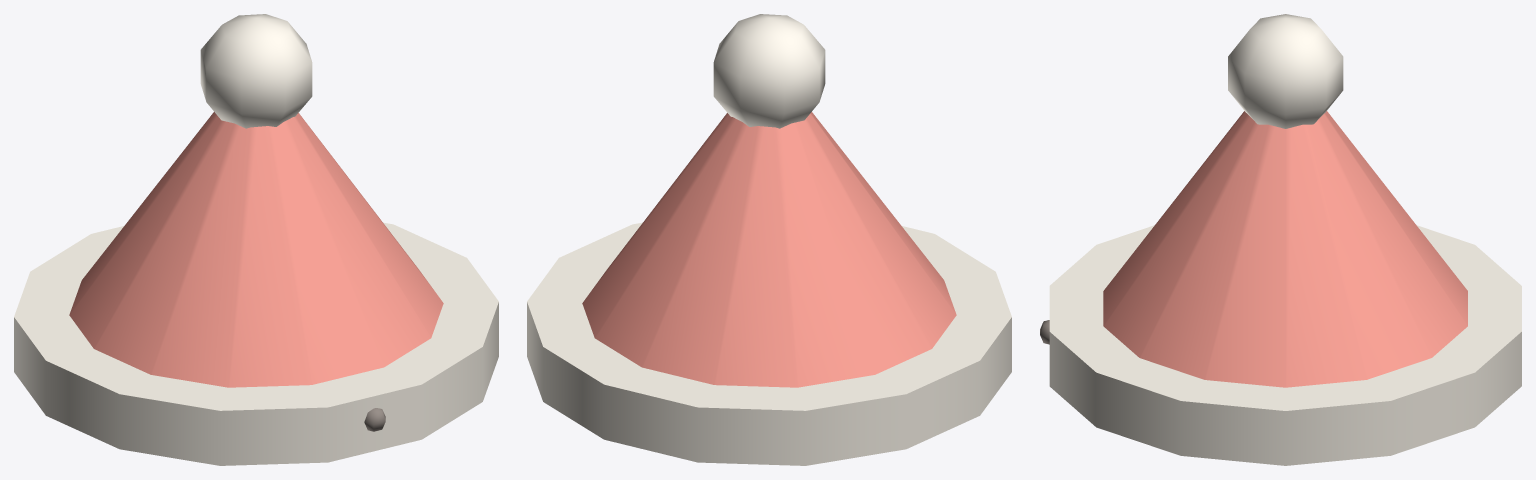
The model's file is hat_santa.glb.
The picture shows the model from 3 angles, left to right: view 1: azimuth 30°, elevation 25°; view 2: azimuth 150°, elevation 25°; view 3: azimuth 270°, elevation 25°; orthographic projection.
Visible parts, largest first — view 1: hat_santa; view 2: hat_santa; view 3: hat_santa.
Part boxes in pixels (x1,y1,x2,y2): hat_santa: (14, 14, 498, 465); hat_santa: (527, 14, 1011, 465); hat_santa: (1040, 14, 1521, 465).
Bounding box in the file's own units: 28 × 22 × 27.84.
